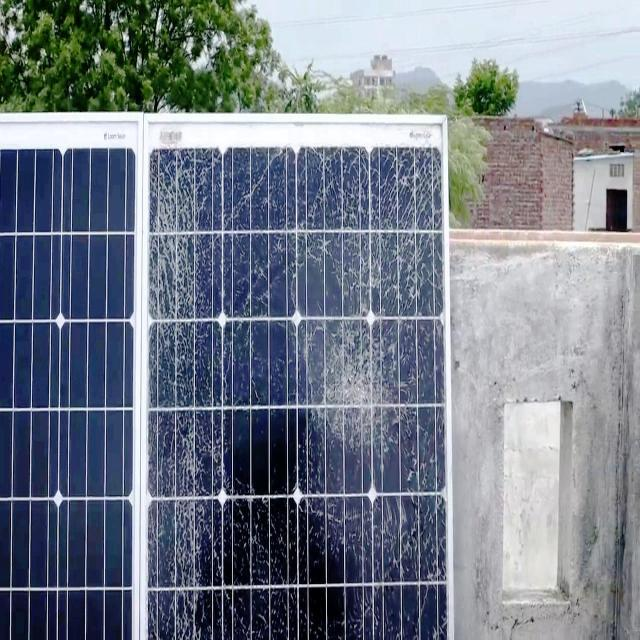faulty: (146, 124, 454, 637)
no faulty: (0, 117, 139, 640)
